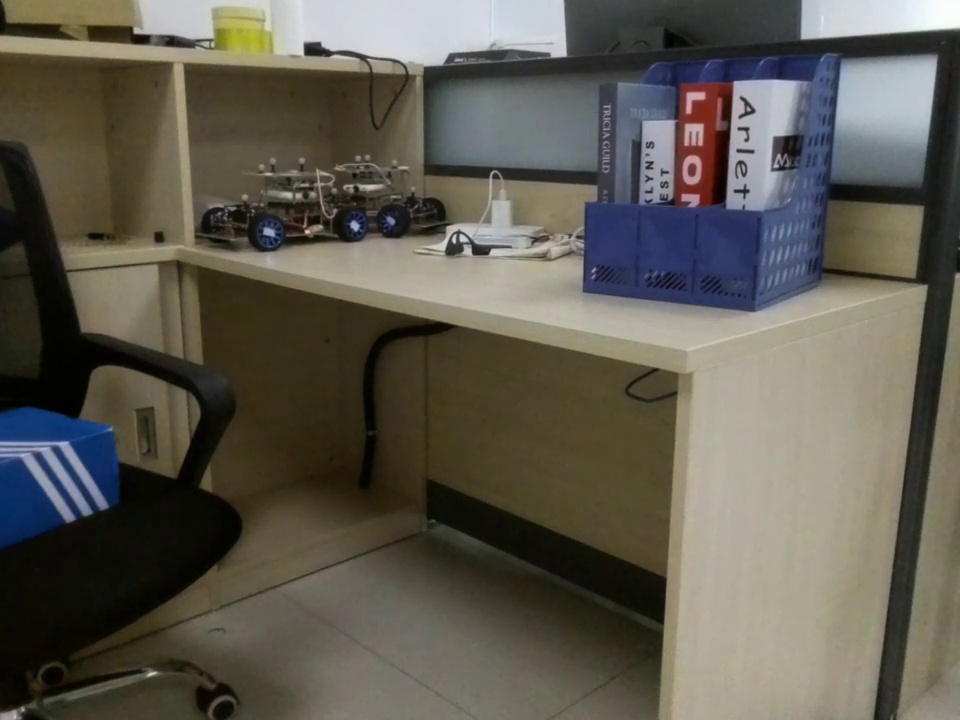files: (584, 51, 839, 315)
